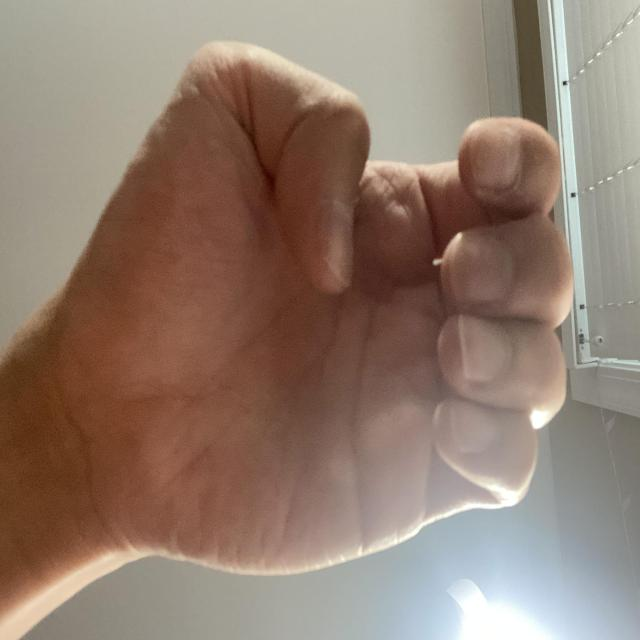E: (182, 80, 595, 640)
